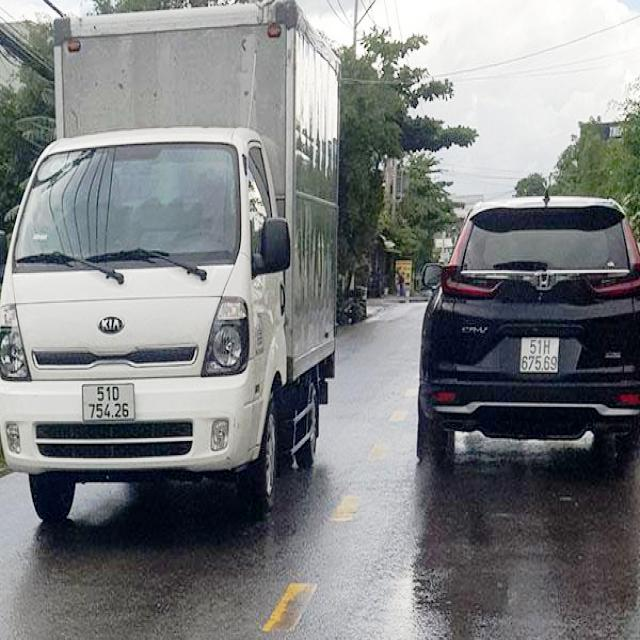license_plate: (81, 382, 137, 423), (520, 337, 560, 374)
